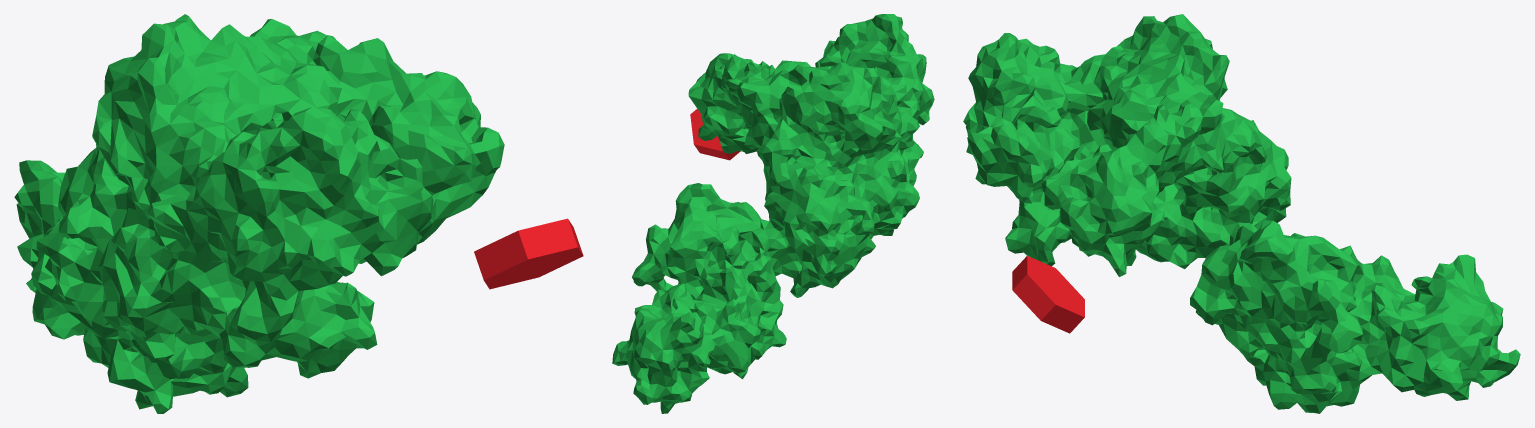
Rendered from tau.obj.
The picture shows the model from 3 angles, left to right: view 1: azimuth 30°, elevation 25°; view 2: azimuth 150°, elevation 25°; view 3: azimuth 270°, elevation 25°; orthographic projection. The views are drawn at different scales.
Parts seen in each view (by area): view 1: Object.2, Object.4; view 2: Object.2, Object.4; view 3: Object.2, Object.4.
Part boxes in pixels (x1,y1,x2,y2): Object.2: (14, 14, 504, 413); Object.4: (474, 218, 583, 289); Object.2: (612, 14, 934, 413); Object.4: (690, 109, 740, 160); Object.2: (963, 14, 1520, 413); Object.4: (1012, 255, 1084, 333).
Bounding box in the file's own units: 12.61 × 13.5 × 19.31.
